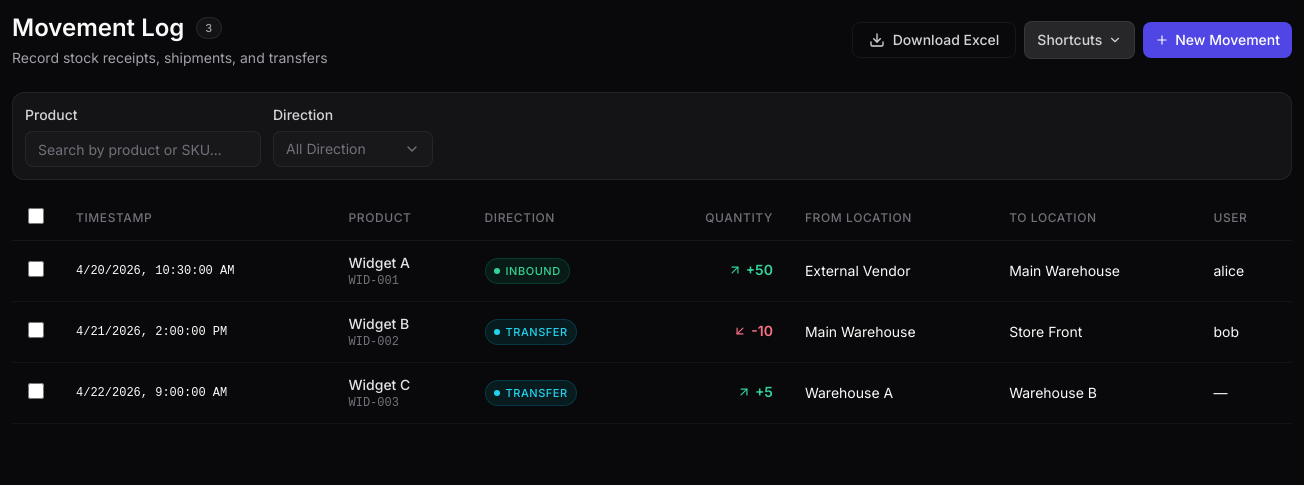
Scenario: MovementList bulk-delete flow › selecting rows reveals 'Delete N movements' action label
This screenshot has width=1304, height=485.
Click the checkbox named "Select Widget A" at [36, 268], box [28, 260, 44, 276]
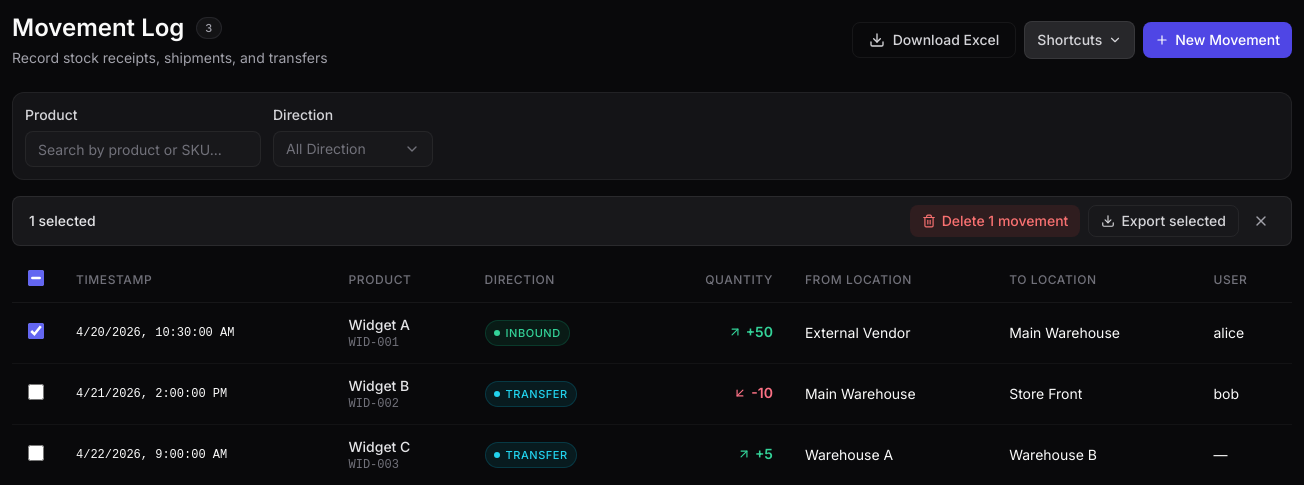
Click the checkbox named "Select Widget B" at [36, 392], box [28, 384, 44, 400]
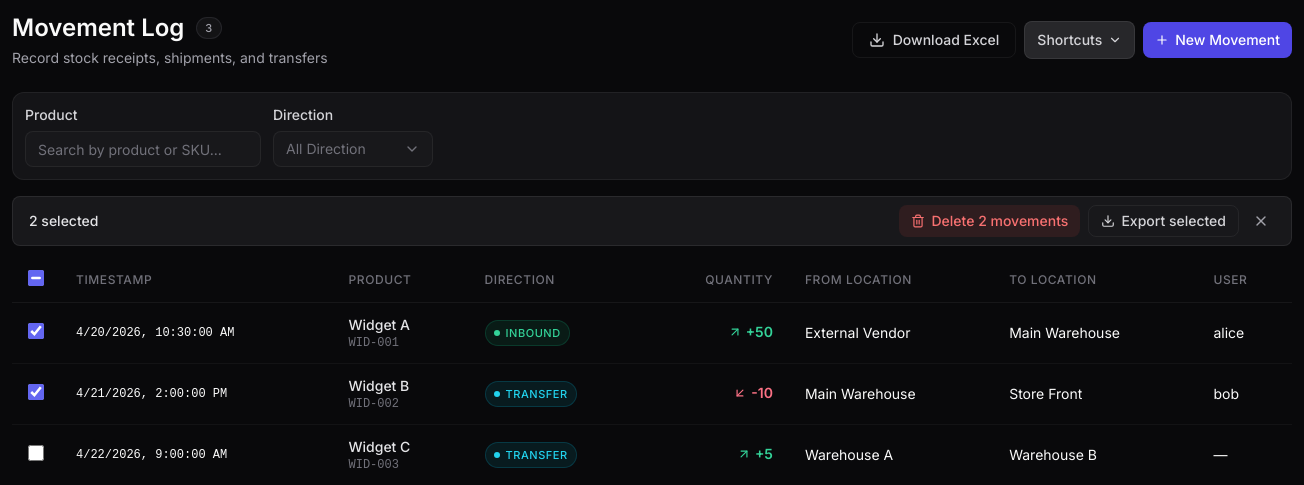
Check: the button "Delete 2 movements" is shown, box [900, 205, 1080, 237]
